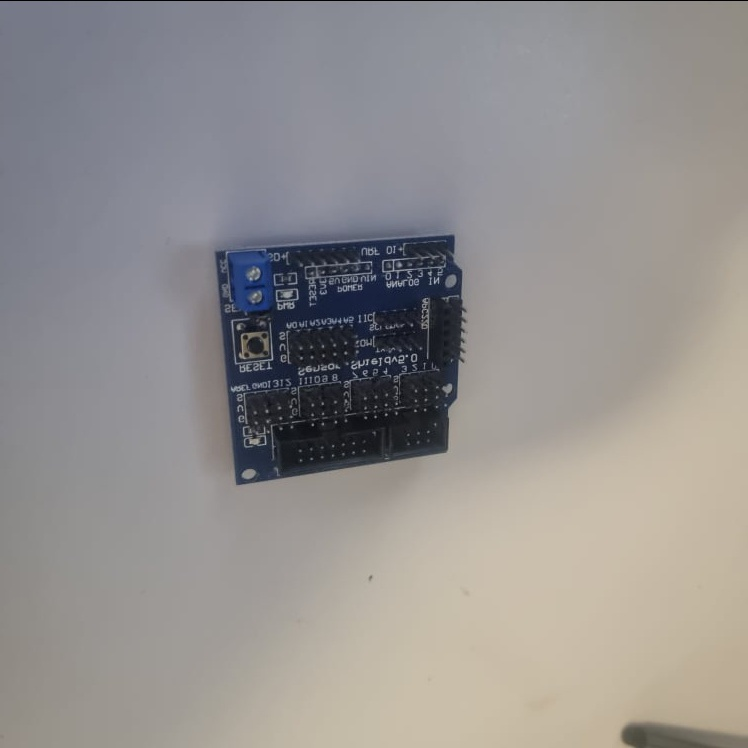5V EXPANSION: (216, 233, 461, 485)
